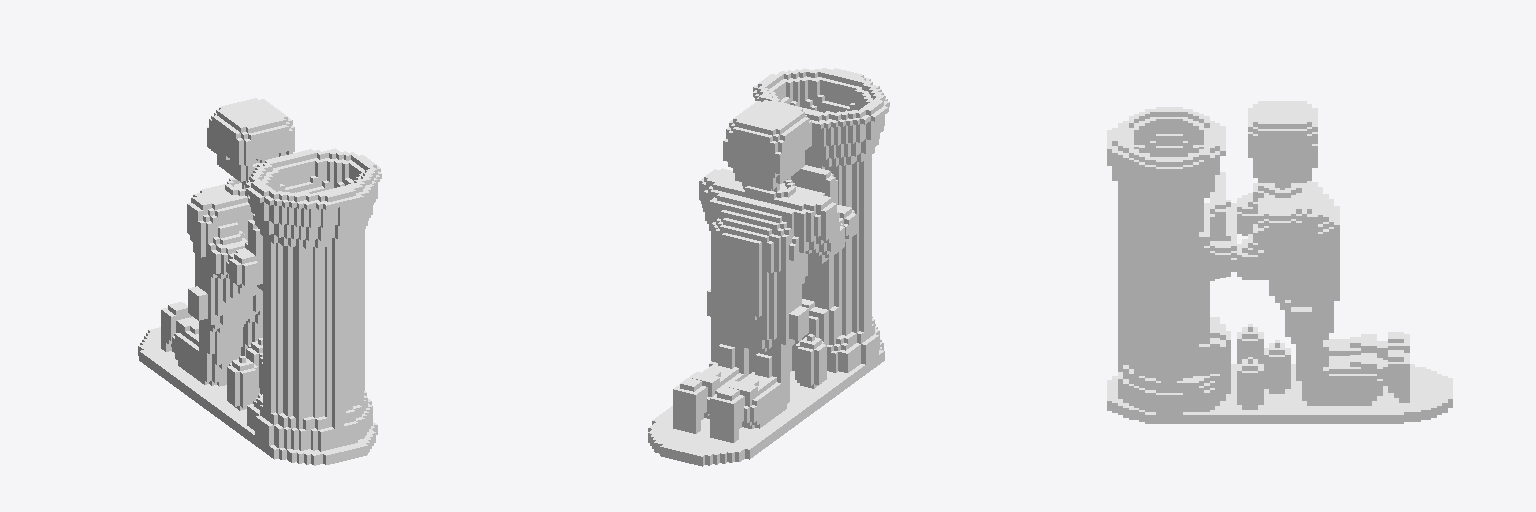
The model's file is mortar_soldier_LVL3_2.0.obj.
3 renders of one model, left to right at view 1: azimuth 30°, elevation 25°; view 2: azimuth 150°, elevation 25°; view 3: azimuth 270°, elevation 25°, orthographic.
Parts seen in each view (by area): view 1: object 1; view 2: object 1; view 3: object 1.
Boxes of the visible parts, <box> form: object 1: <box>138,98,381,465</box>; object 1: <box>648,68,889,466</box>; object 1: <box>1107,101,1452,423</box>.
Bounding box in the file's own units: 2.7 × 5.8 × 6.4.